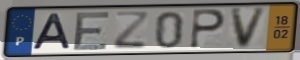0: (154, 10, 187, 49)
A: (30, 12, 73, 52)
E: (71, 10, 113, 52)
P: (187, 8, 227, 50)
V: (229, 6, 269, 51)
Z: (112, 10, 151, 51)
